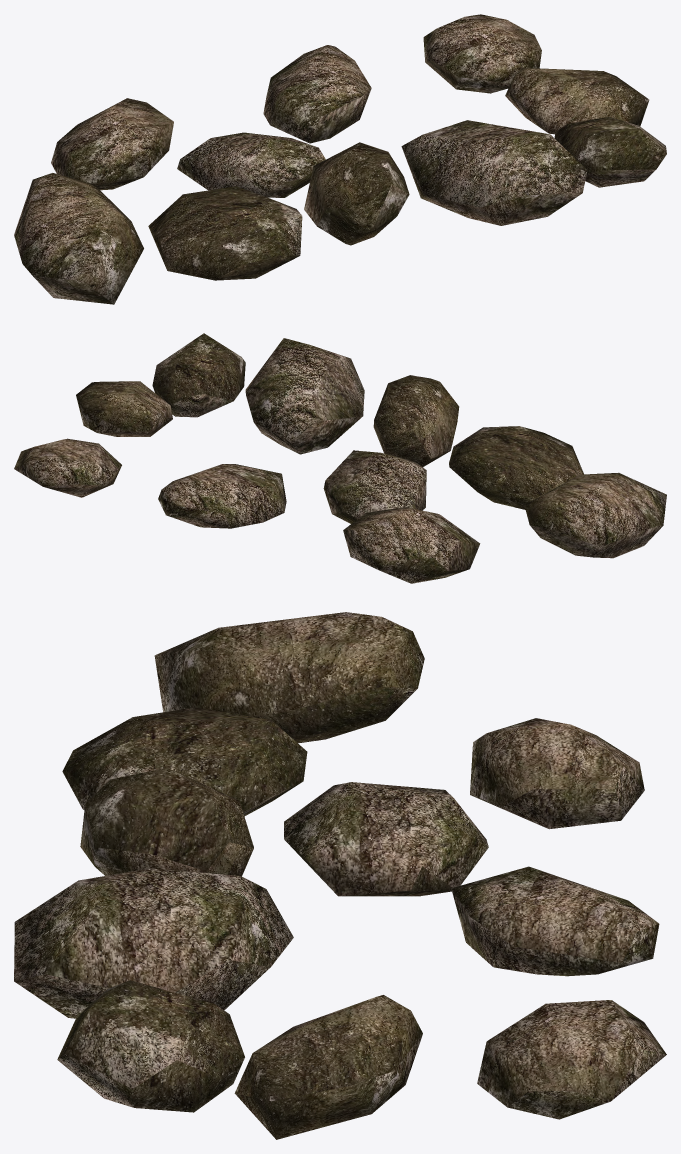
The model's file is KM_VOB_RIVER_ROCKS_06_2.glb.
3 views of the same model, one above another, from view 1: azimuth 30°, elevation 25°; view 2: azimuth 150°, elevation 25°; view 3: azimuth 270°, elevation 25° (orthographic). The views are drawn at different scales.
Parts seen in each view (by area): view 1: Mesh; view 2: Mesh; view 3: Mesh.
Part boxes in pixels (x1,y1,x2,y2): Mesh: (14,14,666,304); Mesh: (14,333,666,583); Mesh: (14,612,666,1139).
Size of the model in its own units: 1.31 by 0.1933 by 0.7643.
1 material, 1 textured.
